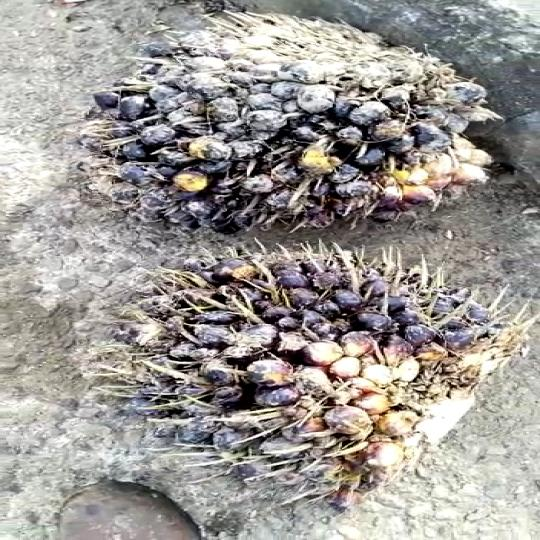mentah: (20, 228, 540, 529), (81, 0, 490, 251)
